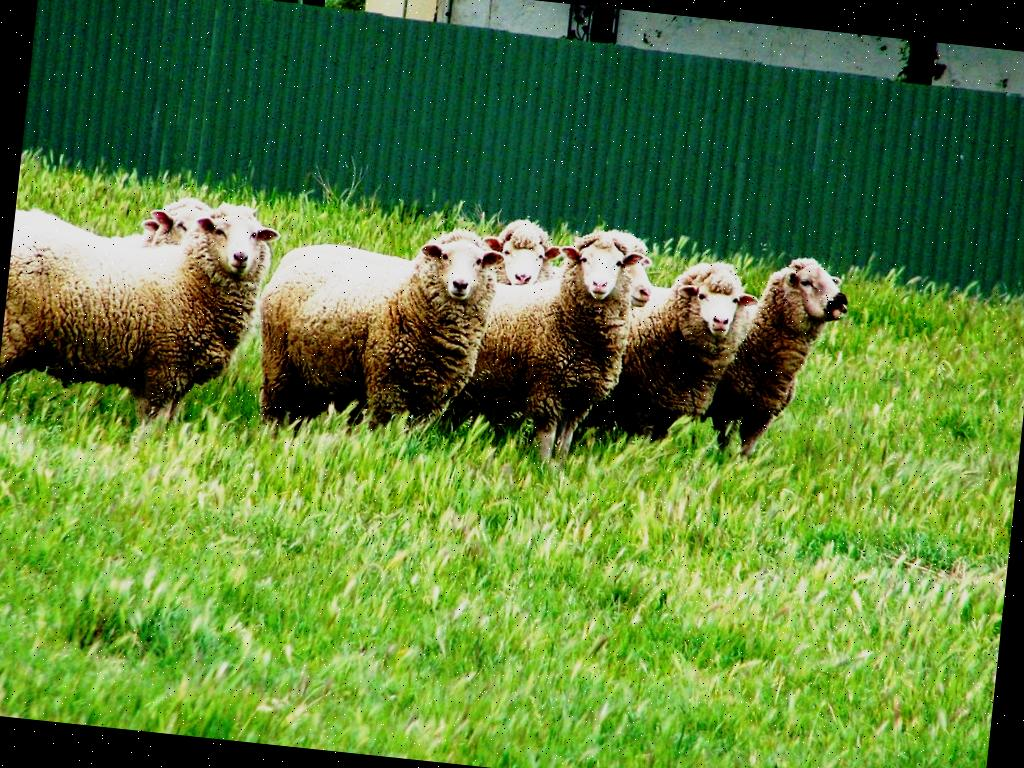Sheep: (0, 182, 272, 432), (243, 211, 520, 456), (422, 214, 646, 482), (708, 239, 858, 469), (626, 254, 766, 458), (52, 184, 220, 302), (466, 209, 578, 350)
